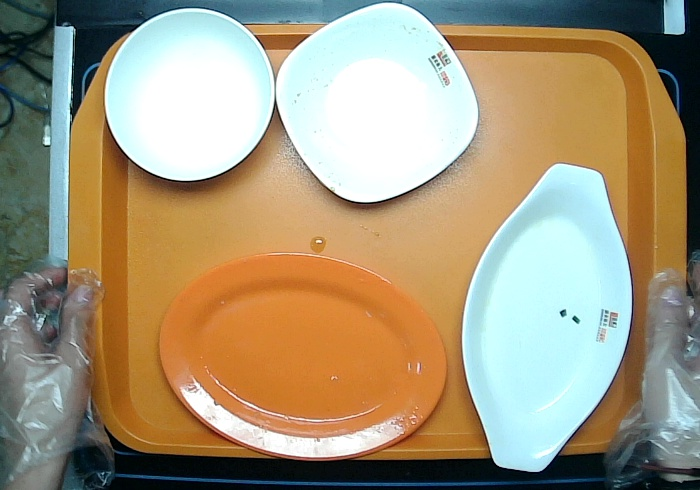NLDX-Bai_Se_Xiao_Fang_Die: (271, 1, 483, 210)
NLDX-Fan_Wan: (100, 6, 280, 187)
NLDX-Ju_Se_Pan: (149, 245, 452, 465)
NLDX-Yu_Pan: (453, 156, 639, 478)
